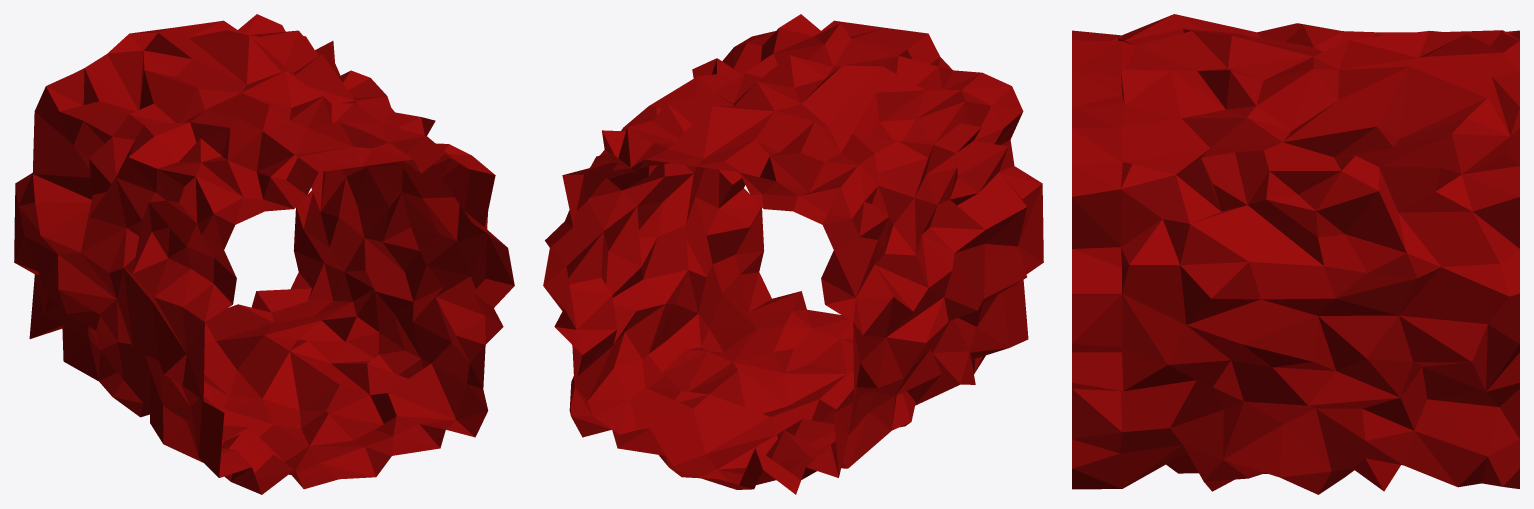
File: cenarioTeste.fbx
3 views of the same model, side by side, from view 1: azimuth 30°, elevation 25°; view 2: azimuth 150°, elevation 25°; view 3: azimuth 270°, elevation 25° (orthographic). The views are drawn at different scales.
Visible parts, largest first — view 1: Plane.002; view 2: Plane.002; view 3: Plane.002.
Boxes of the visible parts, bbox=[...] form: Plane.002: bbox=[14, 14, 514, 494]; Plane.002: bbox=[543, 14, 1043, 494]; Plane.002: bbox=[1072, 14, 1519, 494].
Bounding box in the file's own units: 694 × 678 × 674.
